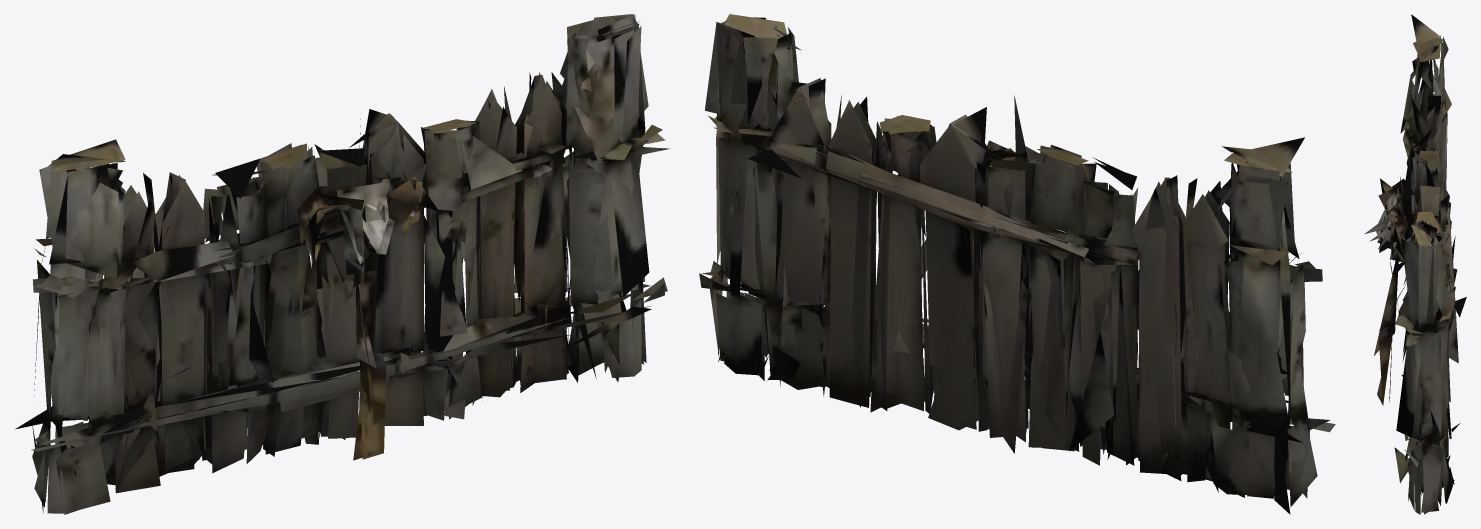
Rendered from goblin_palisade_b_lod.glb.
The picture shows the model from 3 angles, left to right: view 1: azimuth 30°, elevation 25°; view 2: azimuth 150°, elevation 25°; view 3: azimuth 270°, elevation 25°; orthographic projection. The views are drawn at different scales.
Parts seen in each view (by area): view 1: goblin_palisade_b; view 2: goblin_palisade_b; view 3: goblin_palisade_b.
Part boxes in pixels (box(x1,y1,x2,y2)): goblin_palisade_b: box(15, 14, 669, 514); goblin_palisade_b: box(699, 14, 1335, 514); goblin_palisade_b: box(1365, 14, 1466, 514).
Size of the model in its own units: 5.02 by 2.81 by 0.9103.
Materials: 1 (1 with a texture image).
